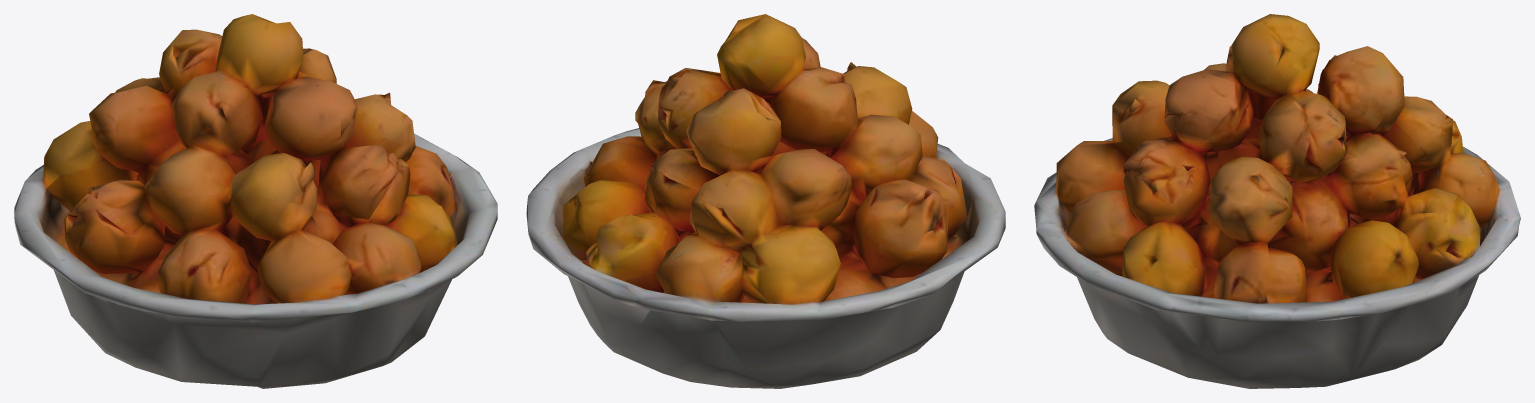
The model's file is bassine-oranges.glb.
3 views of the same model, side by side, from view 1: azimuth 30°, elevation 25°; view 2: azimuth 150°, elevation 25°; view 3: azimuth 270°, elevation 25° (orthographic).
Parts seen in each view (by area): view 1: tripo_node_08c79422-0445-473b-a480-23a172a9a7f2; view 2: tripo_node_08c79422-0445-473b-a480-23a172a9a7f2; view 3: tripo_node_08c79422-0445-473b-a480-23a172a9a7f2.
Part boxes in pixels (x1,y1,x2,y2): tripo_node_08c79422-0445-473b-a480-23a172a9a7f2: (14, 14, 497, 388); tripo_node_08c79422-0445-473b-a480-23a172a9a7f2: (526, 14, 1005, 388); tripo_node_08c79422-0445-473b-a480-23a172a9a7f2: (1034, 14, 1520, 388).
Bounding box in the file's own units: 0.9865 × 0.7023 × 0.9941.
Materials: 1 (1 with a texture image).
